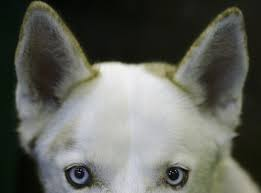dog: (1, 1, 261, 193)
